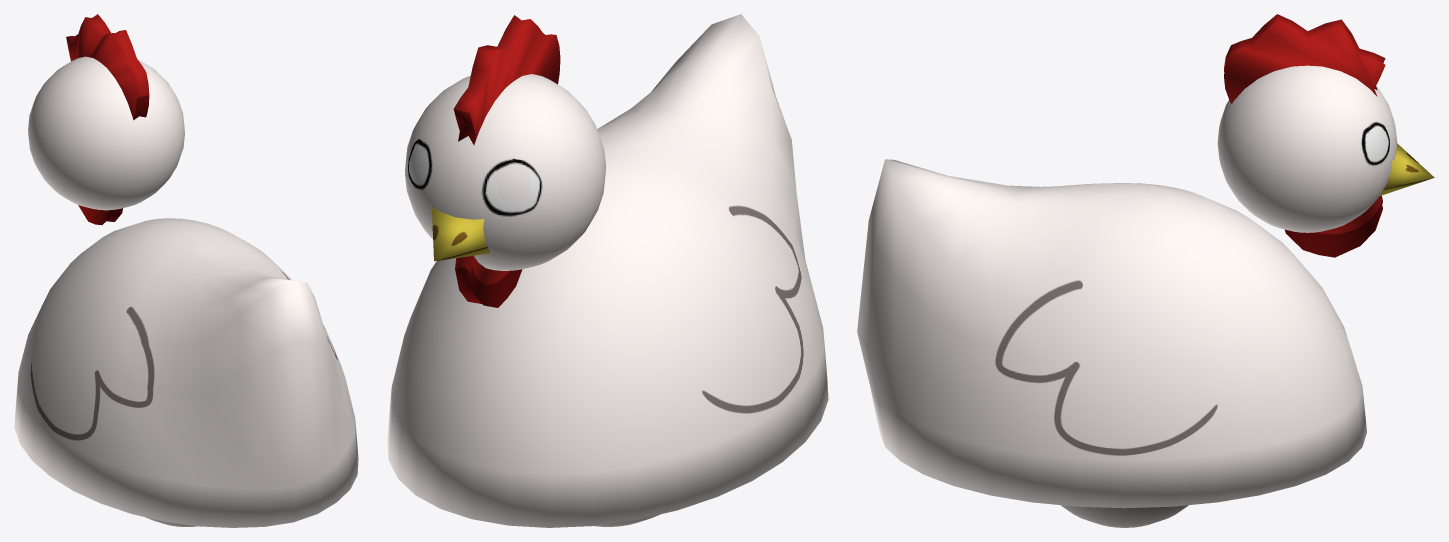
The model's file is Chicken.fbx.
3 renders of one model, left to right at view 1: azimuth 30°, elevation 25°; view 2: azimuth 150°, elevation 25°; view 3: azimuth 270°, elevation 25°, orthographic. The views are drawn at different scales.
Parts seen in each view (by area): view 1: Sphere.002, Sphere; view 2: Sphere.002, Sphere; view 3: Sphere.002, Sphere.
Boxes of the visible parts, <box> form: Sphere.002: <box>14,218,358,527</box>; Sphere: <box>28,14,184,224</box>; Sphere.002: <box>387,14,828,527</box>; Sphere: <box>405,15,605,307</box>; Sphere.002: <box>857,159,1366,527</box>; Sphere: <box>1217,14,1434,257</box>.
Bounding box in the file's own units: 132 × 204 × 213.
